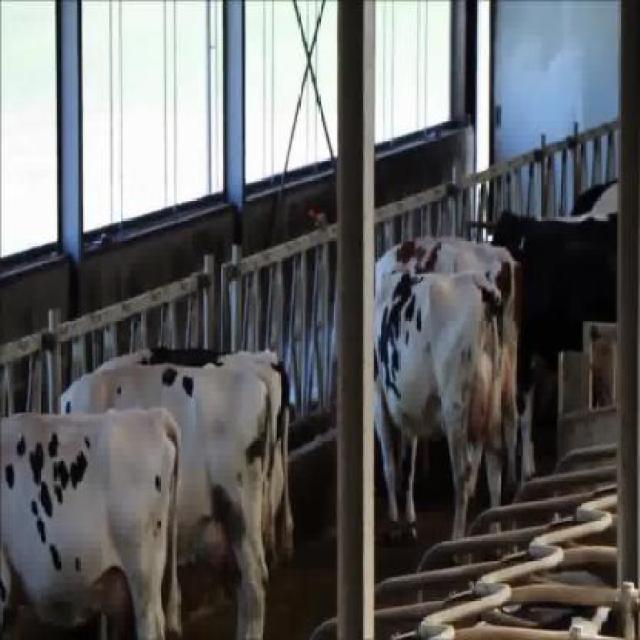Cow: (58, 358, 280, 638), (0, 406, 183, 639), (374, 268, 511, 570)
